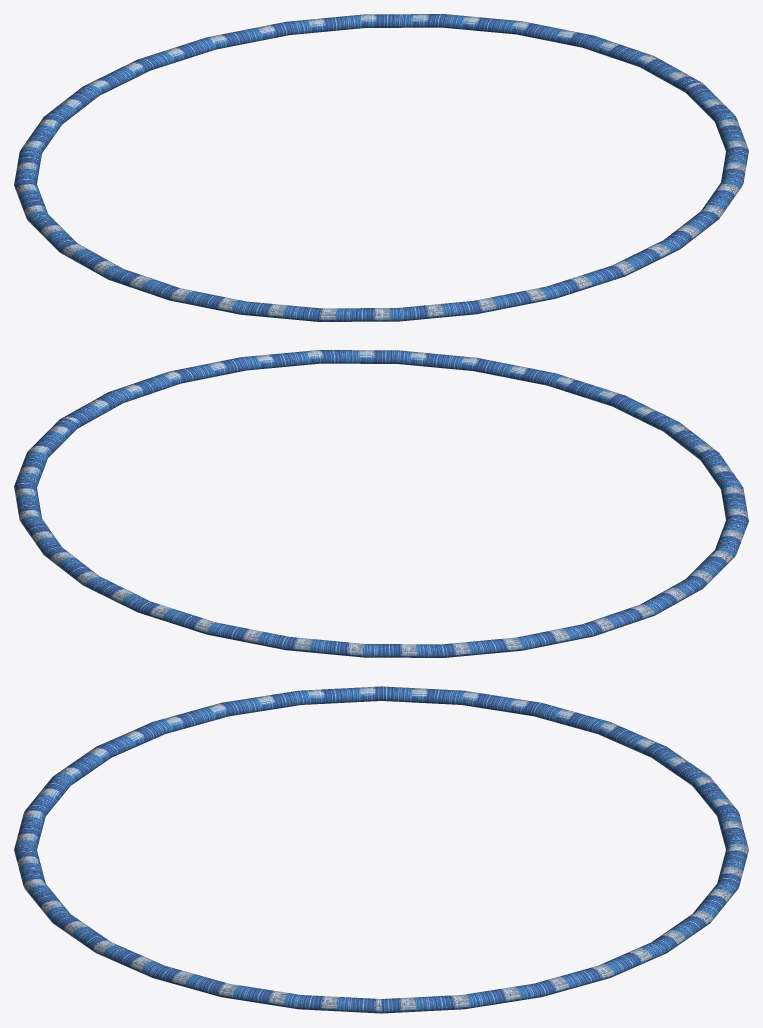
Rendered from third.obj.
The picture shows the model from 3 angles, top to bottom: view 1: azimuth 30°, elevation 25°; view 2: azimuth 150°, elevation 25°; view 3: azimuth 270°, elevation 25°; orthographic projection. The views are drawn at different scales.
Size of the model in its own units: 675 by 17.13 by 635.
